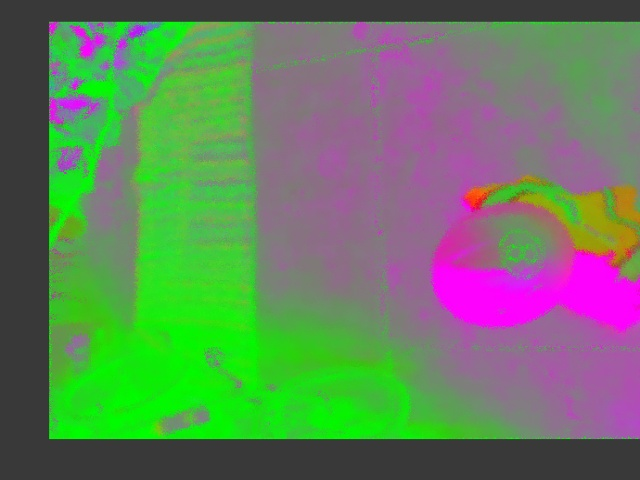eight: (498, 228, 541, 279)
